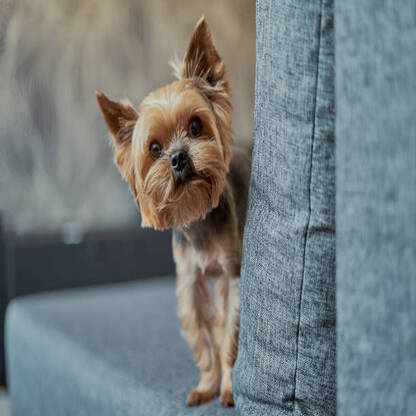yorkshire: (91, 14, 254, 407)
